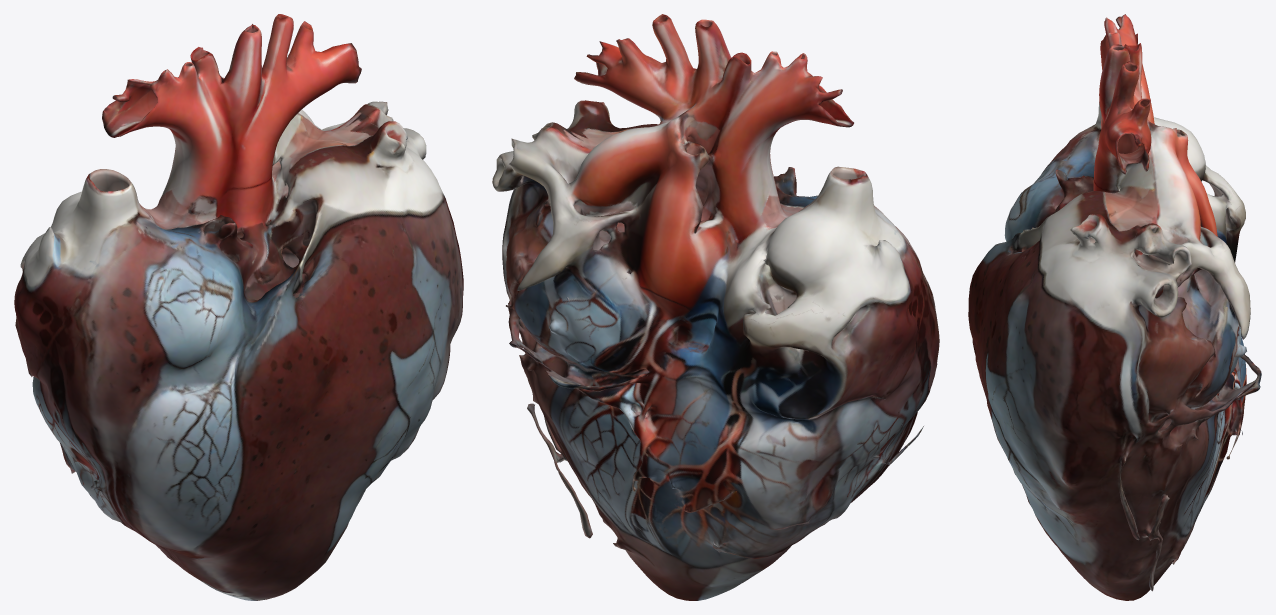
File: human_heart.glb
The picture shows the model from 3 angles, left to right: view 1: azimuth 30°, elevation 25°; view 2: azimuth 150°, elevation 25°; view 3: azimuth 270°, elevation 25°; orthographic projection. The views are drawn at different scales.
Parts seen in each view (by area): view 1: Mesh1_Mesh1.024; view 2: Mesh1_Mesh1.024; view 3: Mesh1_Mesh1.024.
Boxes of the visible parts, <box> form: Mesh1_Mesh1.024: <box>14,14,463,600</box>; Mesh1_Mesh1.024: <box>492,14,939,600</box>; Mesh1_Mesh1.024: <box>968,14,1261,600</box>.
Bounding box in the file's own units: 1.49 × 1.99 × 0.97.
1 material, 1 textured.
